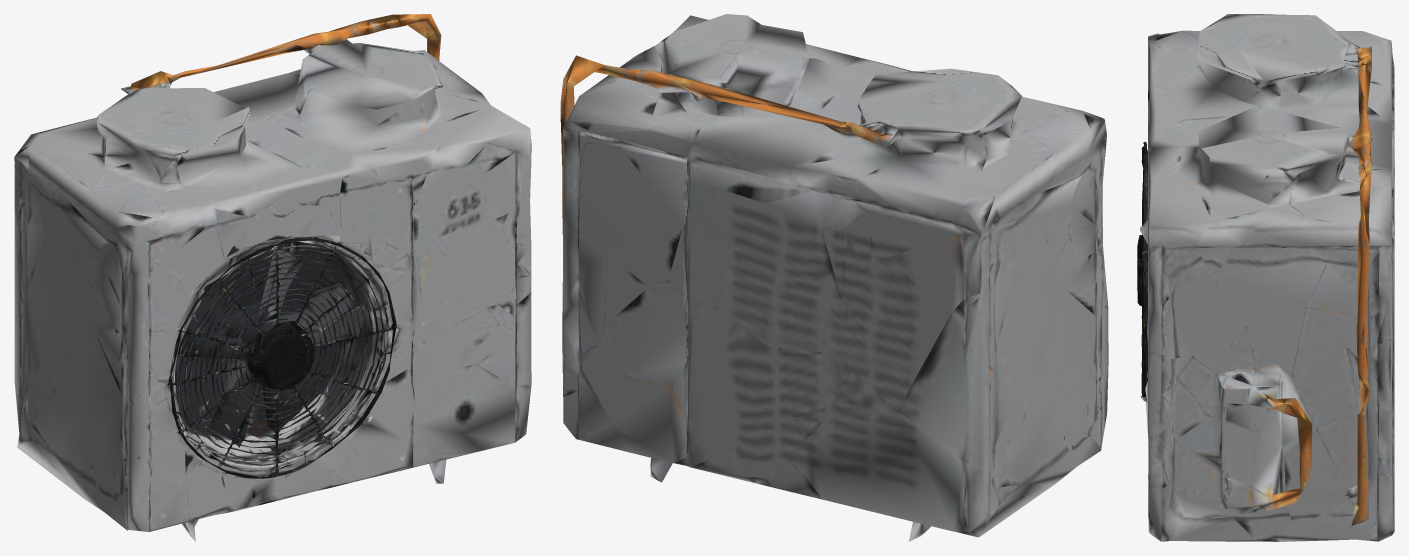
File: hvac-unit.glb
3 views of the same model, side by side, from view 1: azimuth 30°, elevation 25°; view 2: azimuth 150°, elevation 25°; view 3: azimuth 270°, elevation 25° (orthographic). The views are drawn at different scales.
Bounding box in the file's own units: 1.9 × 1.59 × 0.9605.
1 material, 1 textured.
